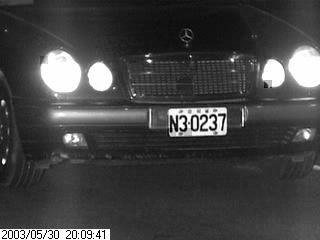plate: (165, 106, 228, 139)
